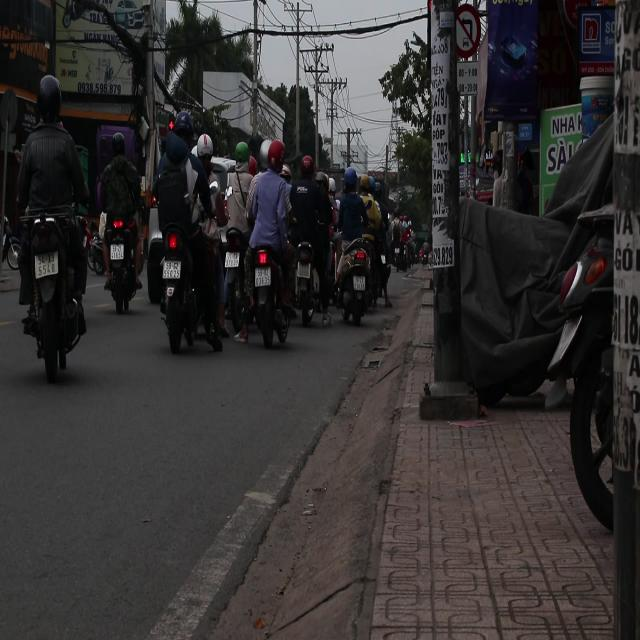motorbike: (19, 206, 99, 372), (163, 217, 224, 359), (334, 233, 385, 324), (255, 241, 287, 348), (292, 242, 326, 328)
